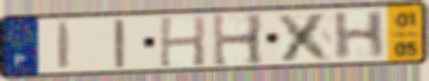H: (210, 11, 267, 68), (331, 8, 388, 62), (157, 14, 208, 69)
I: (55, 19, 75, 71), (111, 17, 128, 70)
X: (274, 10, 337, 63)
